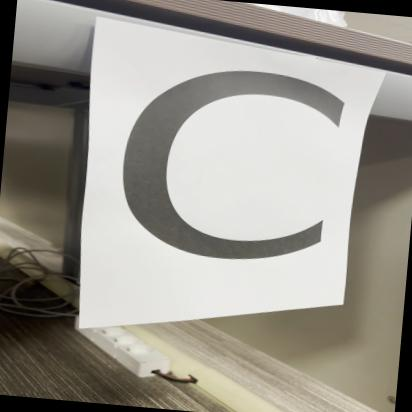seat: (84, 18, 379, 316), (110, 27, 114, 32)
